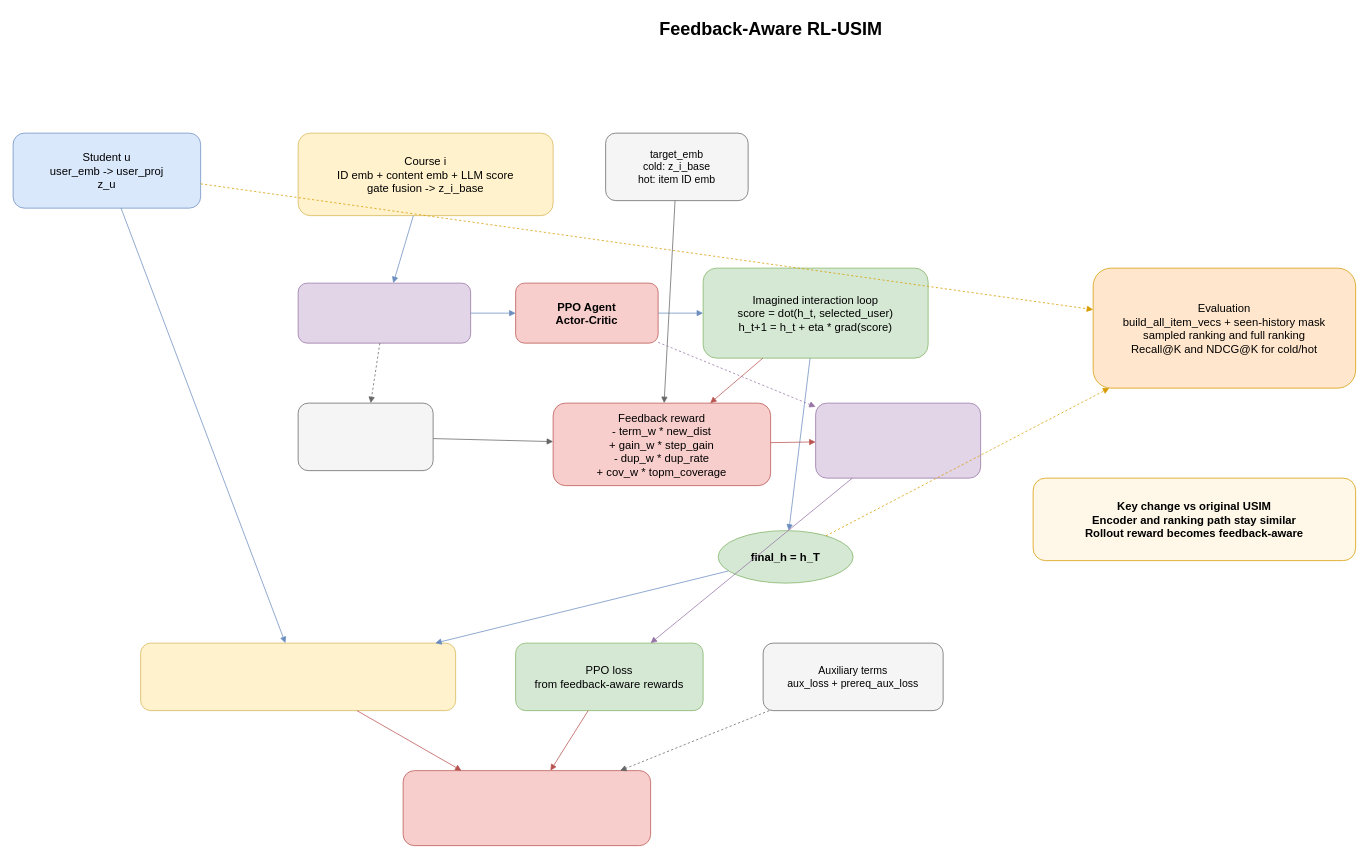
The diagram is 1369 pixels wide and 859 high, and some of its shapes have lost their labels. The centre of each missing label's shape, as x and y in pixels:
"Candidate stats dup_rate topm_coverage" belongs at [365,436].
"Main score dot(normalize(z_u), normalize(final_h))" belongs at [298,676].
"retrieve_sample candidate user pool" belongs at [384,312].
"Total Loss InfoNCE + PPO + auxiliary" belongs at [526,808].
"Trajectory buffer states, actions, candidates log_probs, values, rewards" belongs at [898,440].
